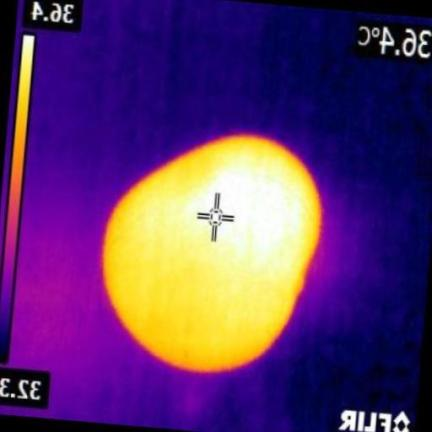mango: (104, 134, 321, 371)
